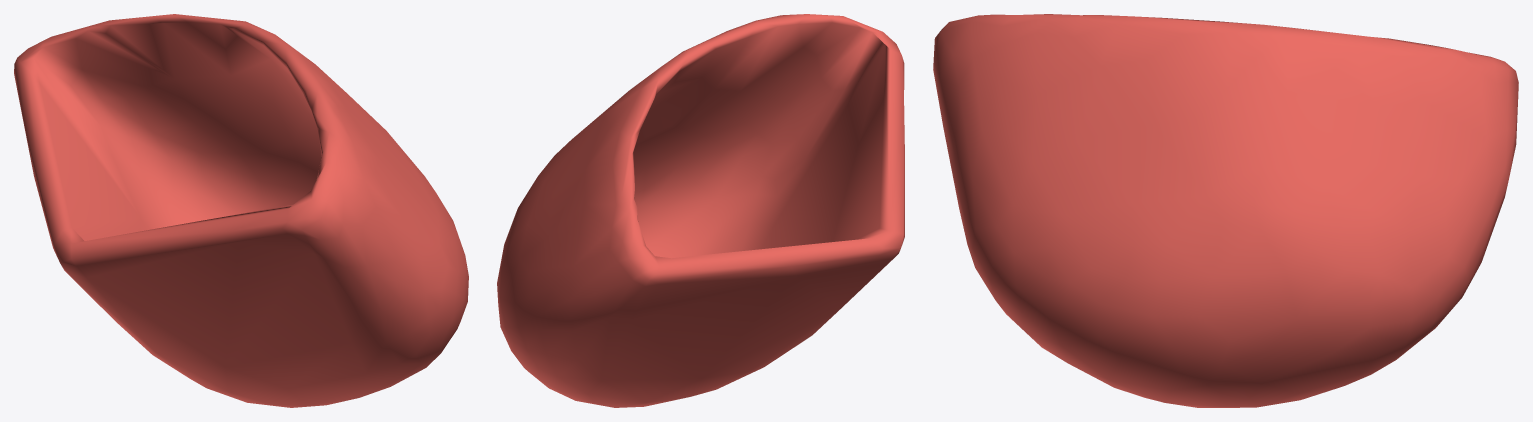
3 renders of one model, left to right at view 1: azimuth 30°, elevation 25°; view 2: azimuth 150°, elevation 25°; view 3: azimuth 270°, elevation 25°, orthographic. The views are drawn at different scales.
Parts seen in each view (by area): view 1: Left coronary leaflet.009; view 2: Left coronary leaflet.009; view 3: Left coronary leaflet.009.
Part boxes in pixels (left/top/right/bottom): Left coronary leaflet.009: left=14, top=14, right=468, bottom=407; Left coronary leaflet.009: left=497, top=14, right=904, bottom=407; Left coronary leaflet.009: left=933, top=14, right=1518, bottom=407.
Size of the model in its own units: 0.484 by 0.4343 by 0.6298.
